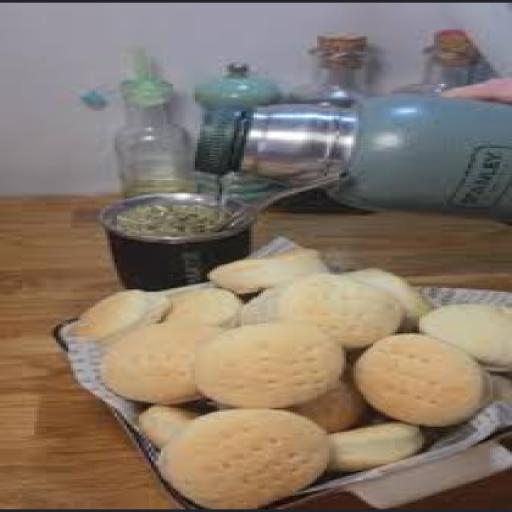bolleria: (74, 250, 511, 509)
mate: (91, 182, 276, 270)
termo: (166, 106, 512, 193)
